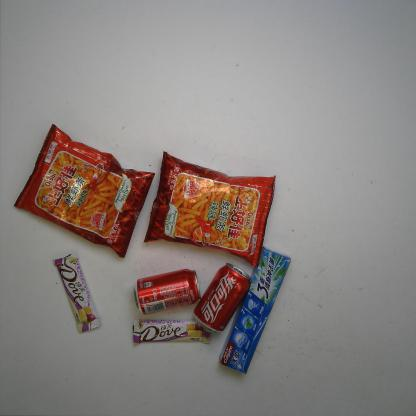Chocolate: (54, 251, 100, 336), (131, 319, 212, 348)
Drink: (191, 262, 252, 335), (132, 267, 206, 316)
Personal Hygiene: (218, 242, 295, 375)
Puffed Food: (13, 122, 156, 260), (142, 148, 278, 270)
